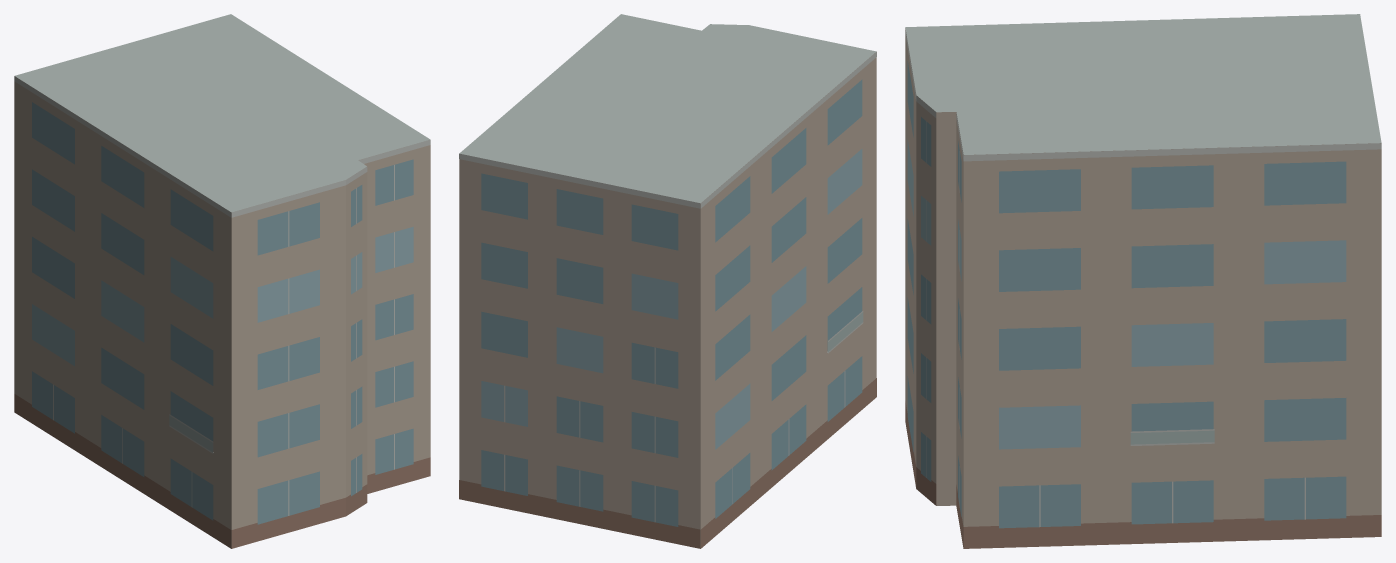
The model's file is survey-upis-32962994.glb.
3 views of the same model, side by side, from view 1: azimuth 30°, elevation 25°; view 2: azimuth 150°, elevation 25°; view 3: azimuth 270°, elevation 25° (orthographic). The views are drawn at different scales.
Visible parts, largest first — view 1: survey-upis-32962994.tmp; view 2: survey-upis-32962994.tmp; view 3: survey-upis-32962994.tmp.
Boxes of the visible parts, box(x1,y1,x2,y2) form: survey-upis-32962994.tmp: box(14, 14, 430, 548); survey-upis-32962994.tmp: box(459, 14, 876, 548); survey-upis-32962994.tmp: box(905, 14, 1381, 548).
Size of the model in its own units: 11.73 by 15.25 by 16.73.
